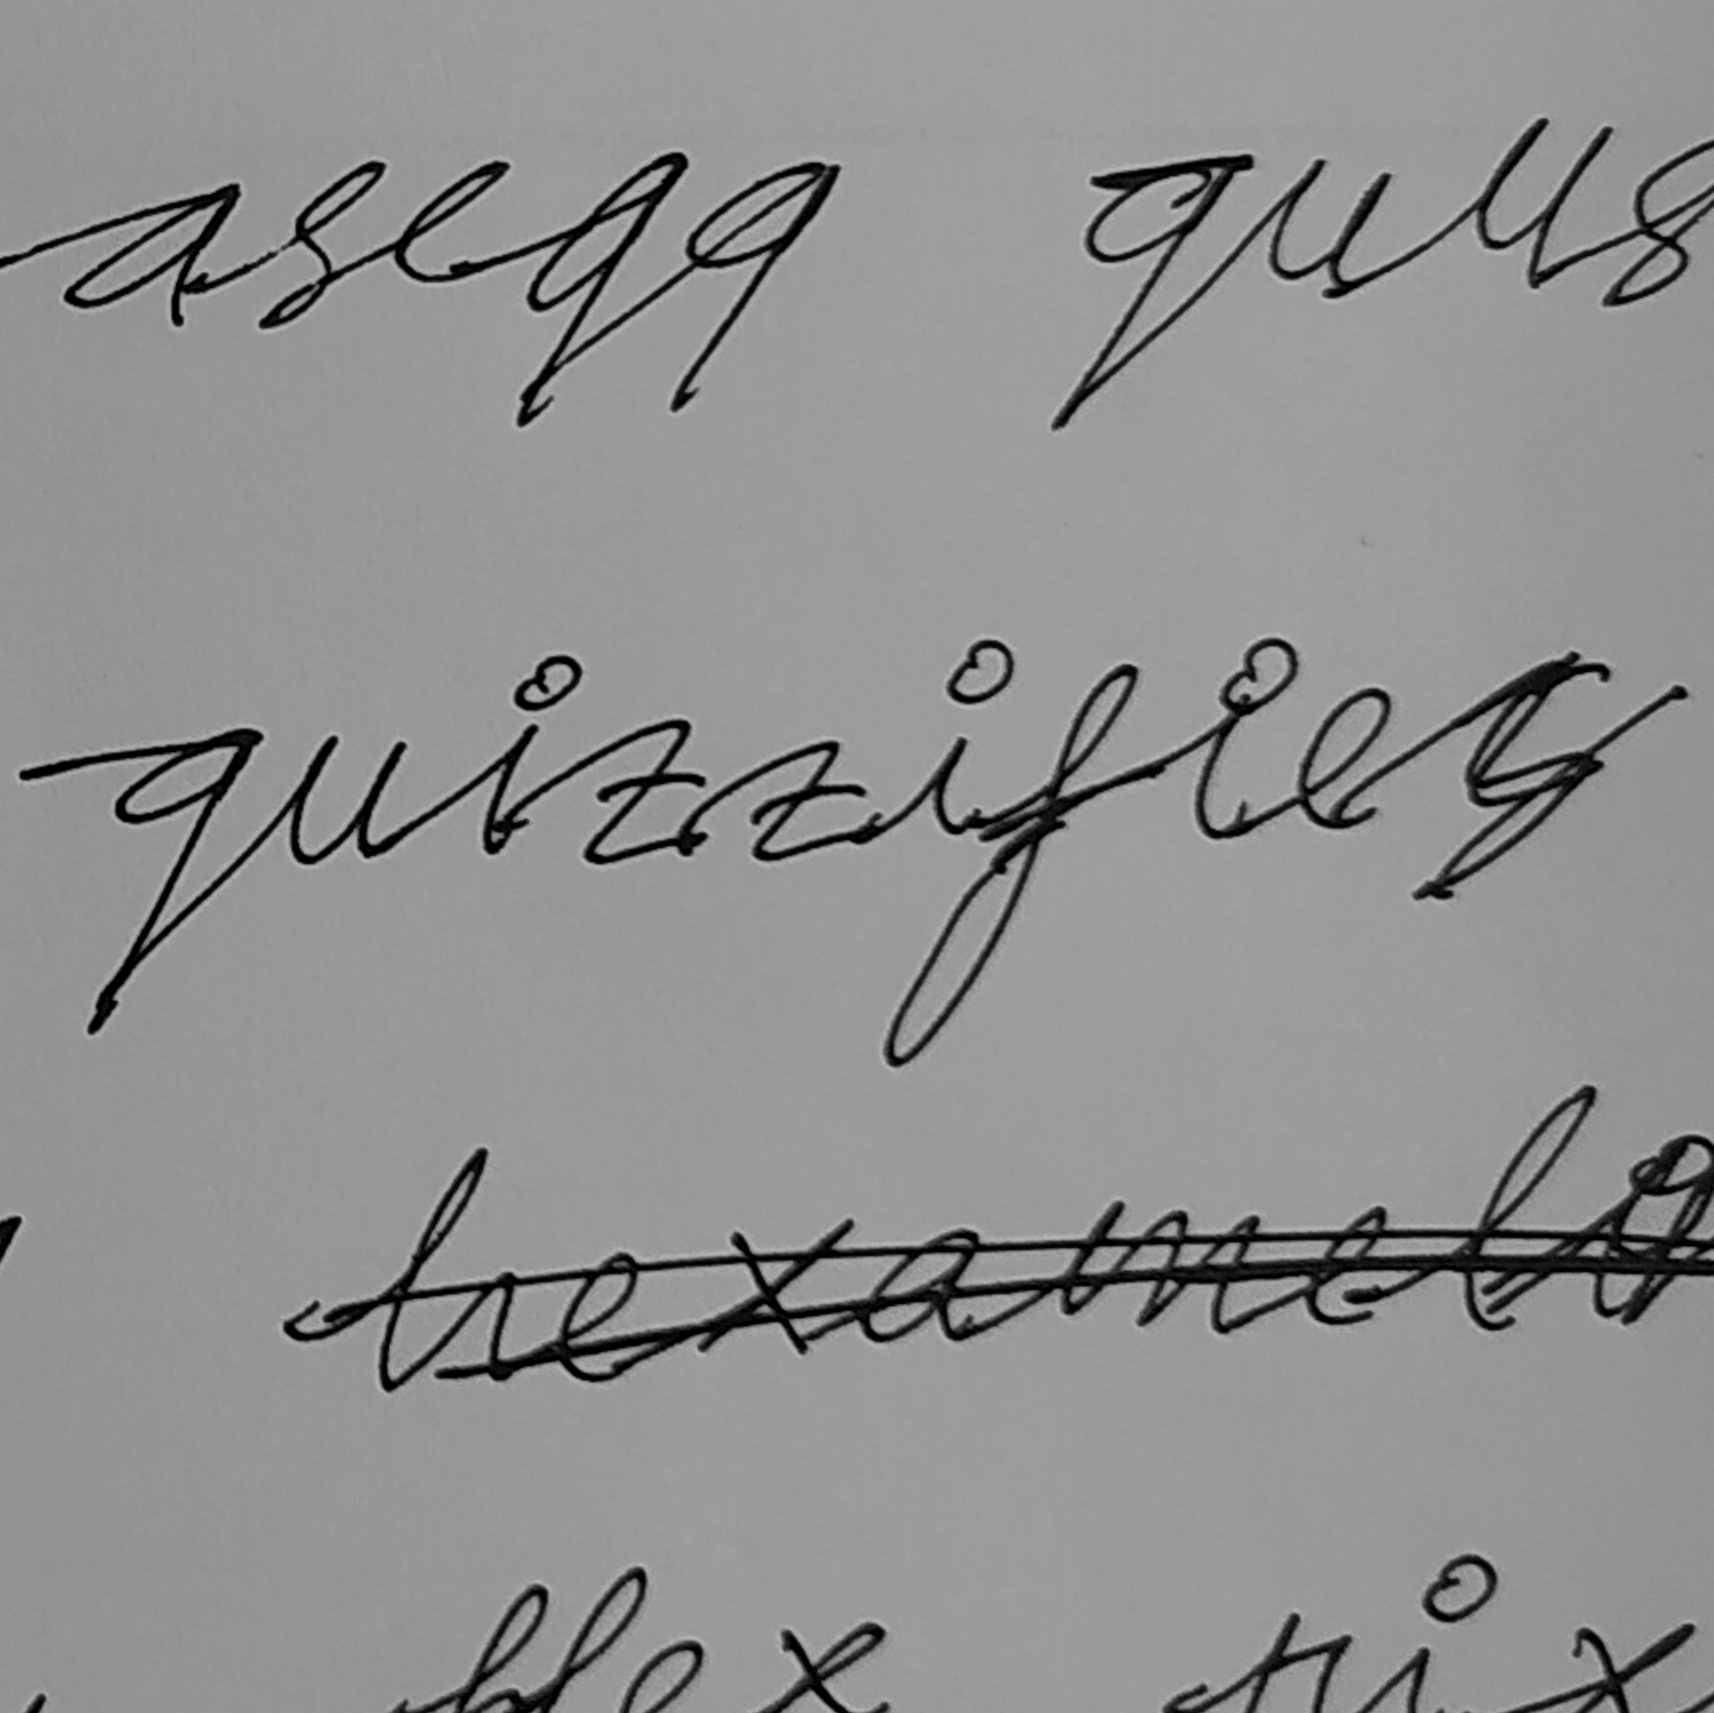e: (1291, 681, 1396, 836)
f: (880, 660, 1143, 1070)
i: (1184, 631, 1302, 842), (472, 648, 585, 858), (922, 632, 1021, 839)
q: (78, 722, 267, 1042)
s: (1405, 646, 1615, 910)
u: (279, 726, 412, 872)
z: (579, 714, 710, 867), (731, 733, 873, 864)
